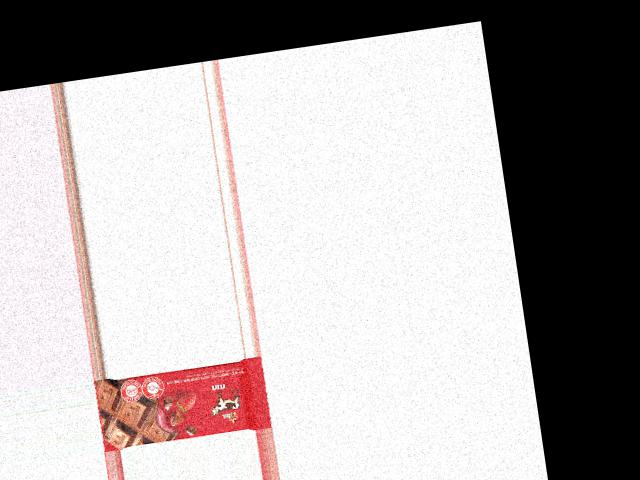chocolate: (95, 355, 272, 451)
